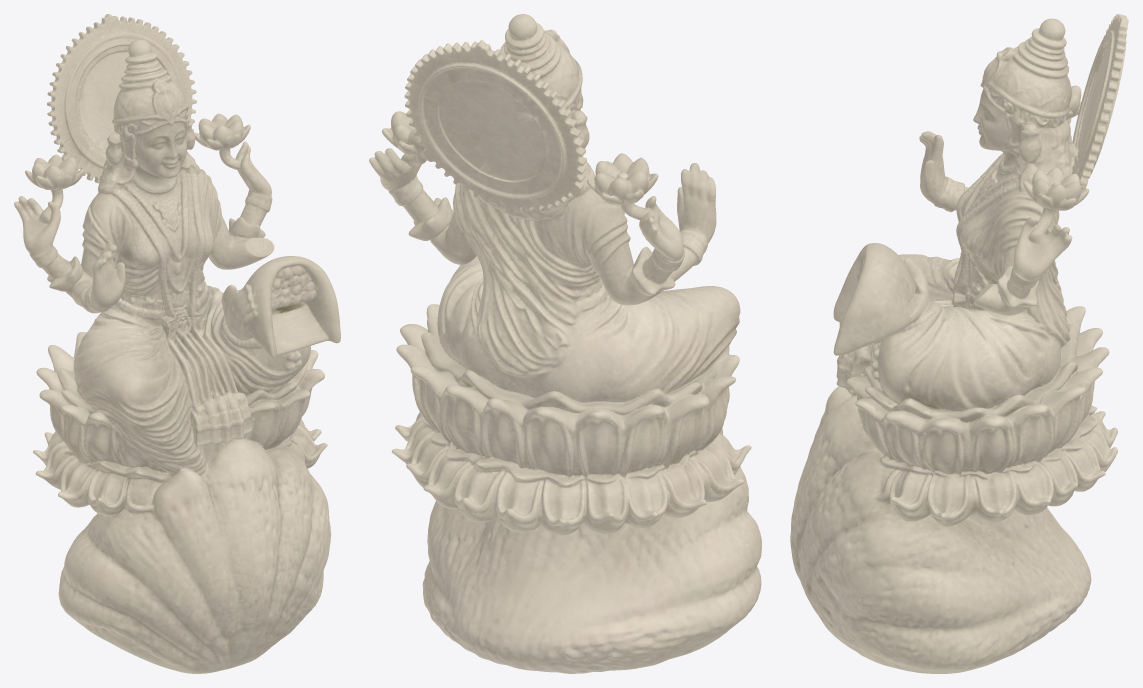
File: fonte-de-lakshmi.glb
The picture shows the model from 3 angles, left to right: view 1: azimuth 30°, elevation 25°; view 2: azimuth 150°, elevation 25°; view 3: azimuth 270°, elevation 25°; orthographic projection. The views are drawn at different scales.
Bounding box in the file's own units: 0.929 × 1.9 × 0.9367.
1 material, 1 textured.
